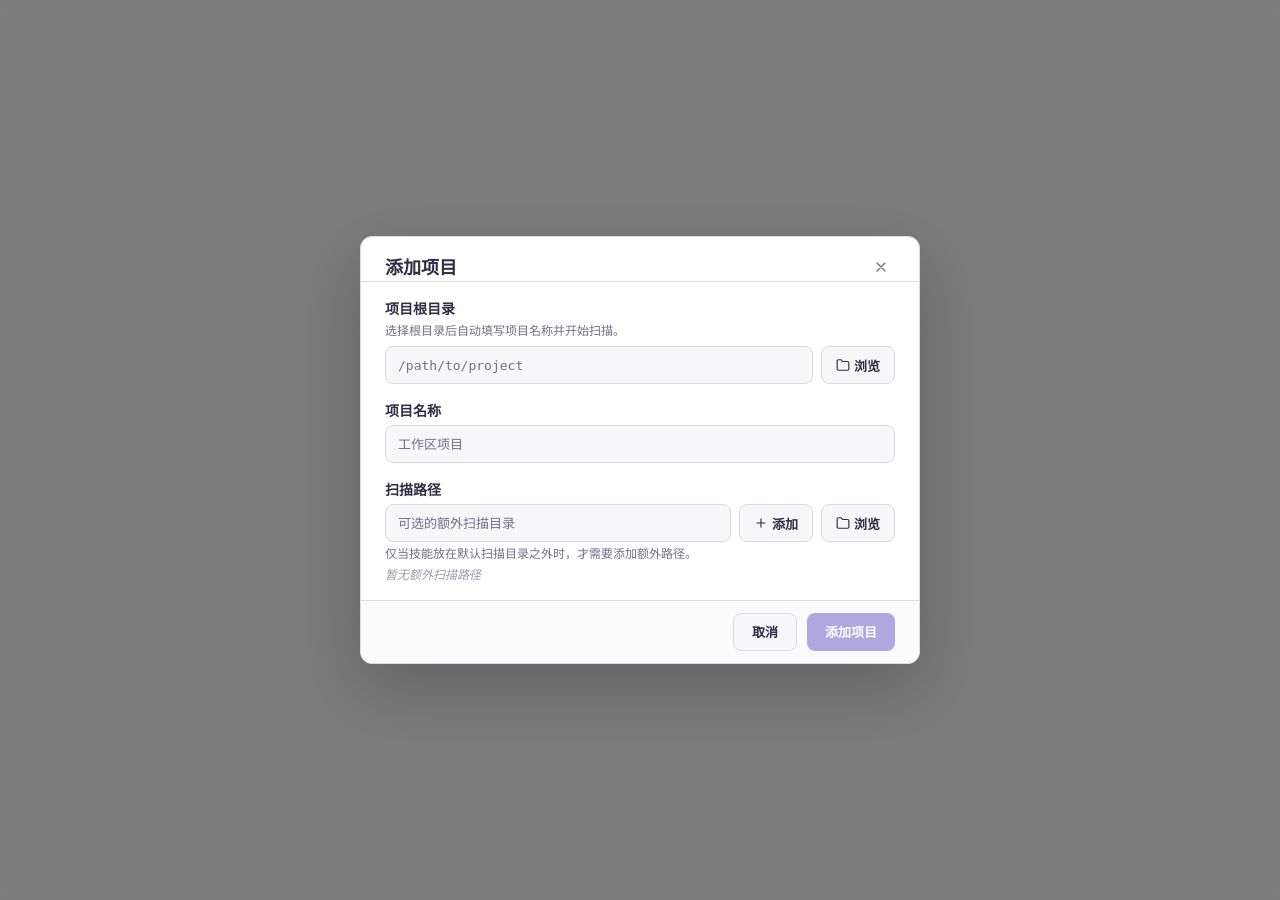
Test case: AddProjectModal › add scan path to list
Type "/extra/path" into the field with placeholder "可选的额外扫描目录". click: (558, 523)
box: 385,504 -> 731,542
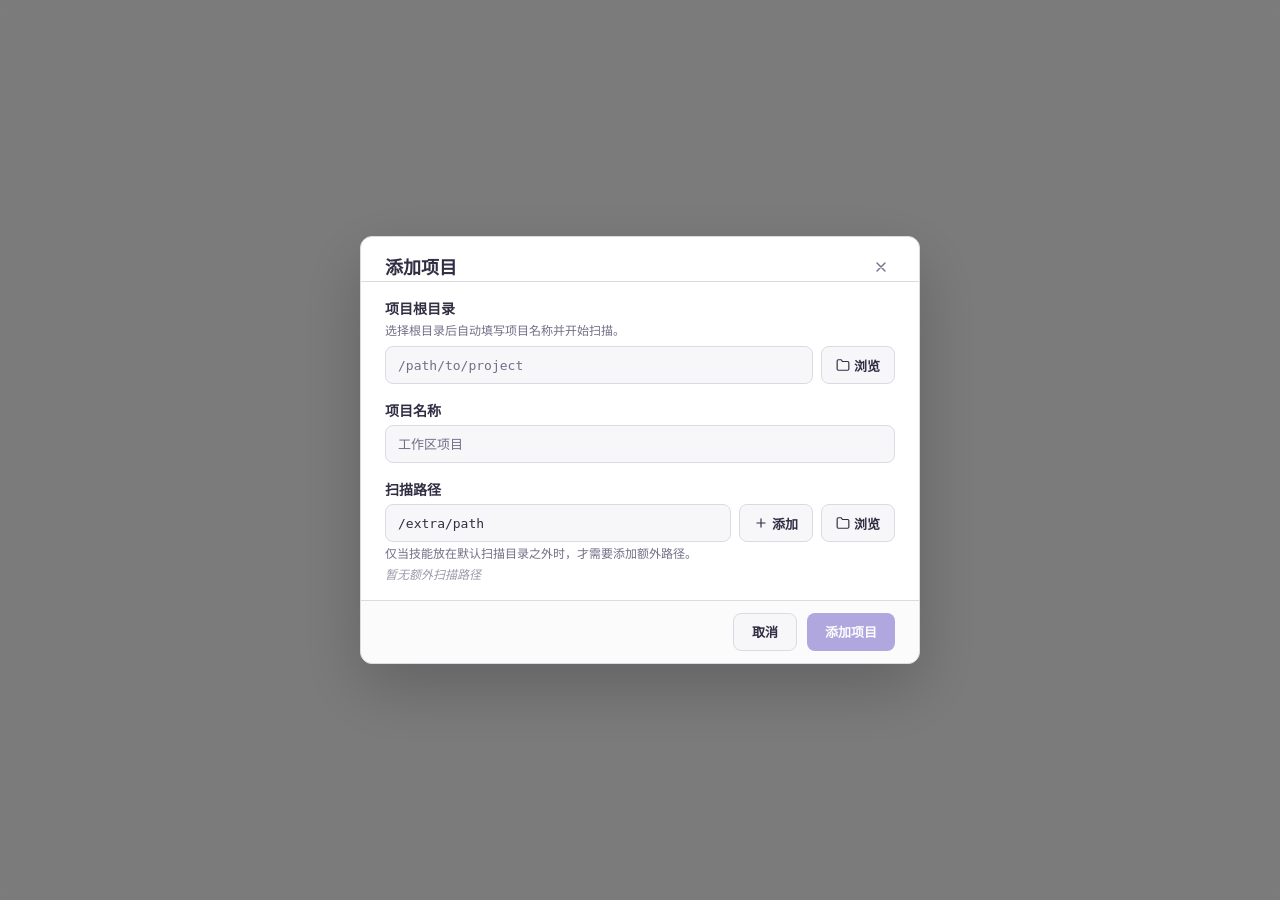
Click the button "添加". click: (776, 523)
box: 739,504 -> 813,542
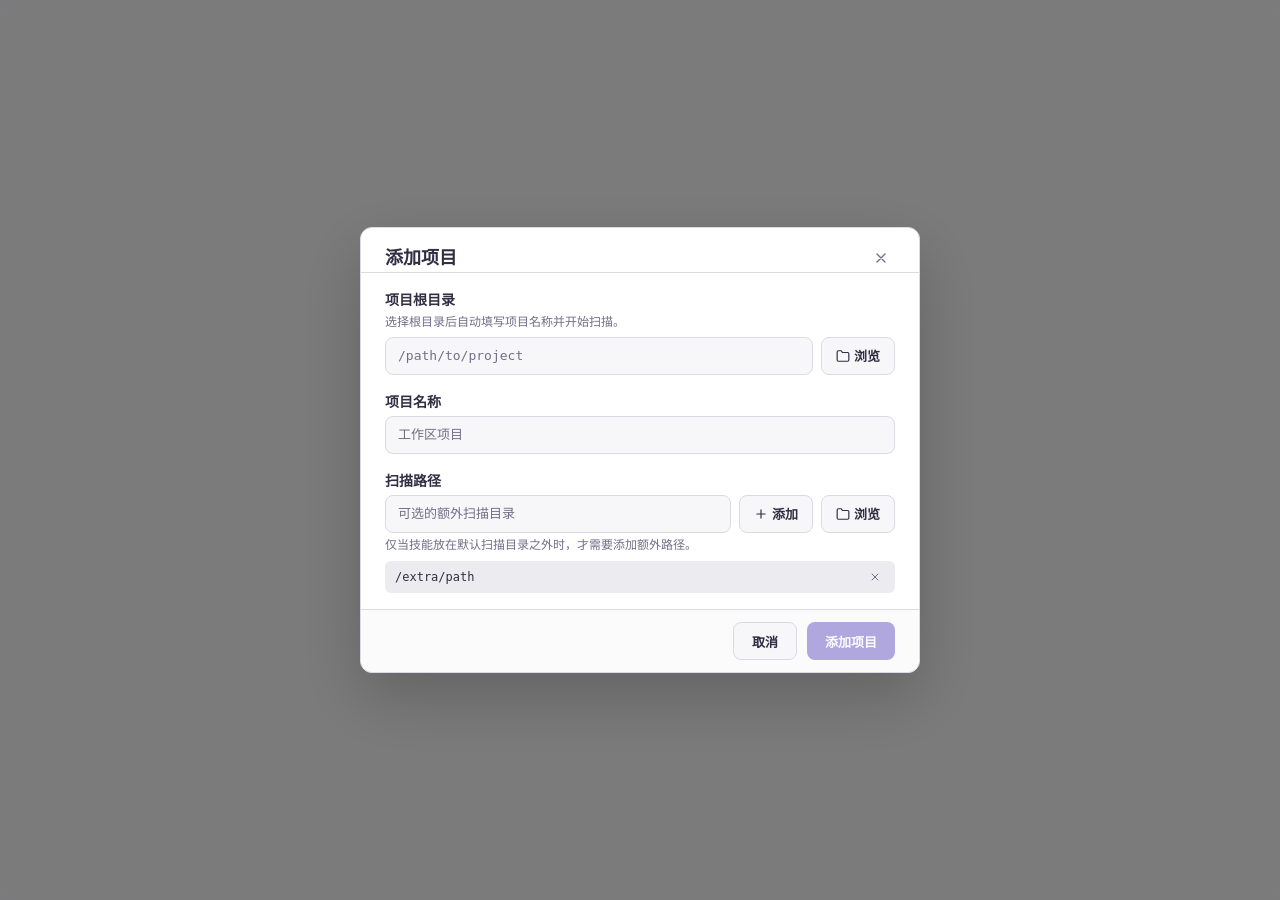
Result: the text "/extra/path" is shown at 395,570 -> 474,584
